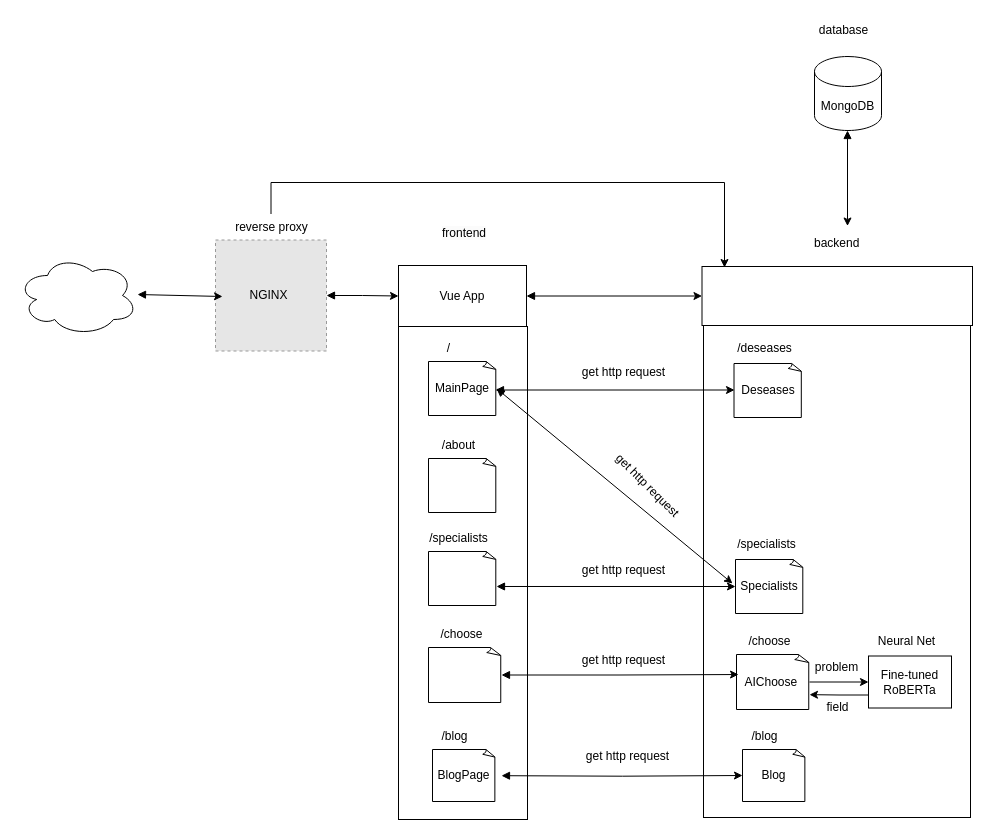
Some shapes in this 990 by 837 pixel diagram are drawn without their labels. Grey dashed boxes stand in for pictures. The shapes that lost their labels are listed below. From the top down, each one's centre as x and y in pixels, then its label:
the point at 77,295: internet
the point at 836,296: Flask Api
the point at 462,485: AboutPage
the point at 462,578: Specialists Page
the point at 465,674: AIChoose Page
